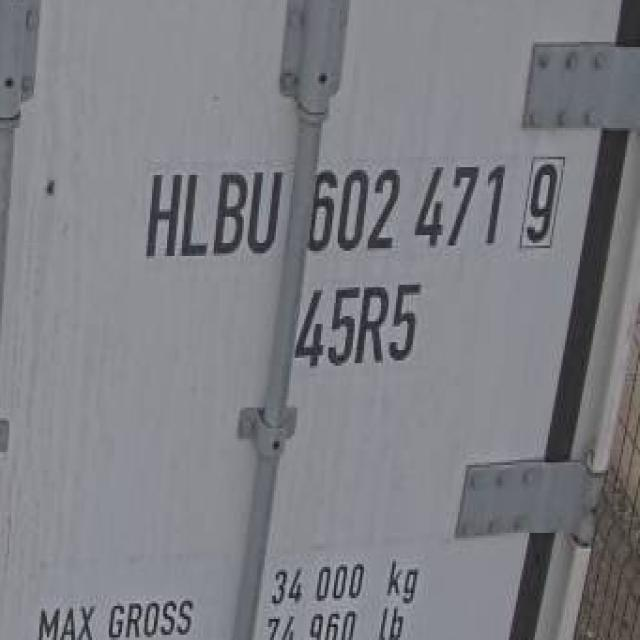dv: (510, 149, 568, 254)
owner: (137, 146, 284, 268)
serial: (301, 158, 508, 259)
size: (294, 280, 428, 370)
